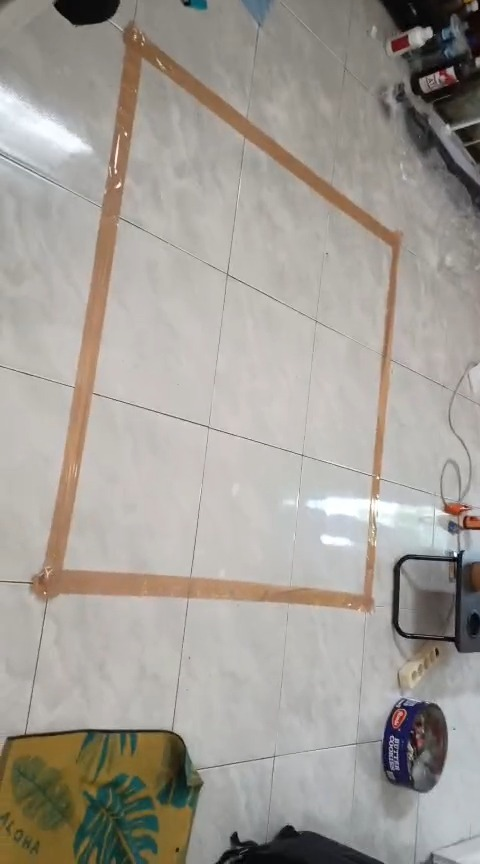floor marking: (33, 24, 400, 611)
